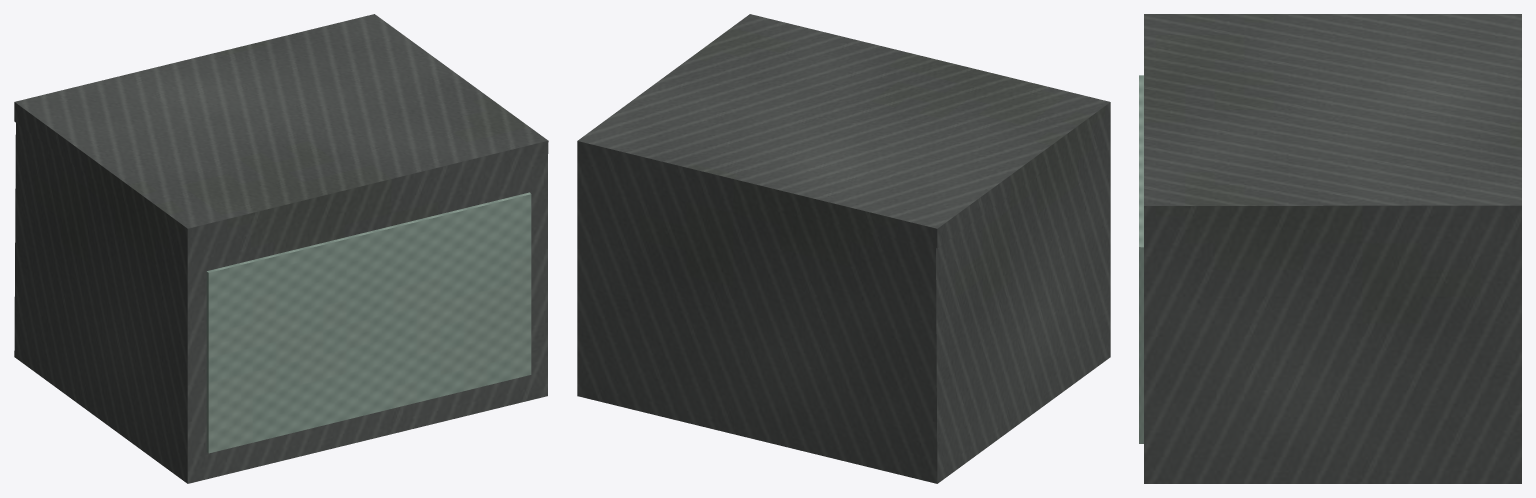
The model's file is monitor_v1.glb.
The picture shows the model from 3 angles, left to right: view 1: azimuth 30°, elevation 25°; view 2: azimuth 150°, elevation 25°; view 3: azimuth 270°, elevation 25°; orthographic projection. The views are drawn at different scales.
Visible parts, largest first — view 1: Variant_monitor_1; view 2: Variant_monitor_1; view 3: Variant_monitor_1.
Part boxes in pixels (x1,y1,x2,y2): Variant_monitor_1: (14, 14, 548, 483); Variant_monitor_1: (577, 14, 1110, 483); Variant_monitor_1: (1139, 14, 1521, 483).
Size of the model in its own units: 0.4807 by 0.325 by 0.405.
2 materials, 2 textured.
